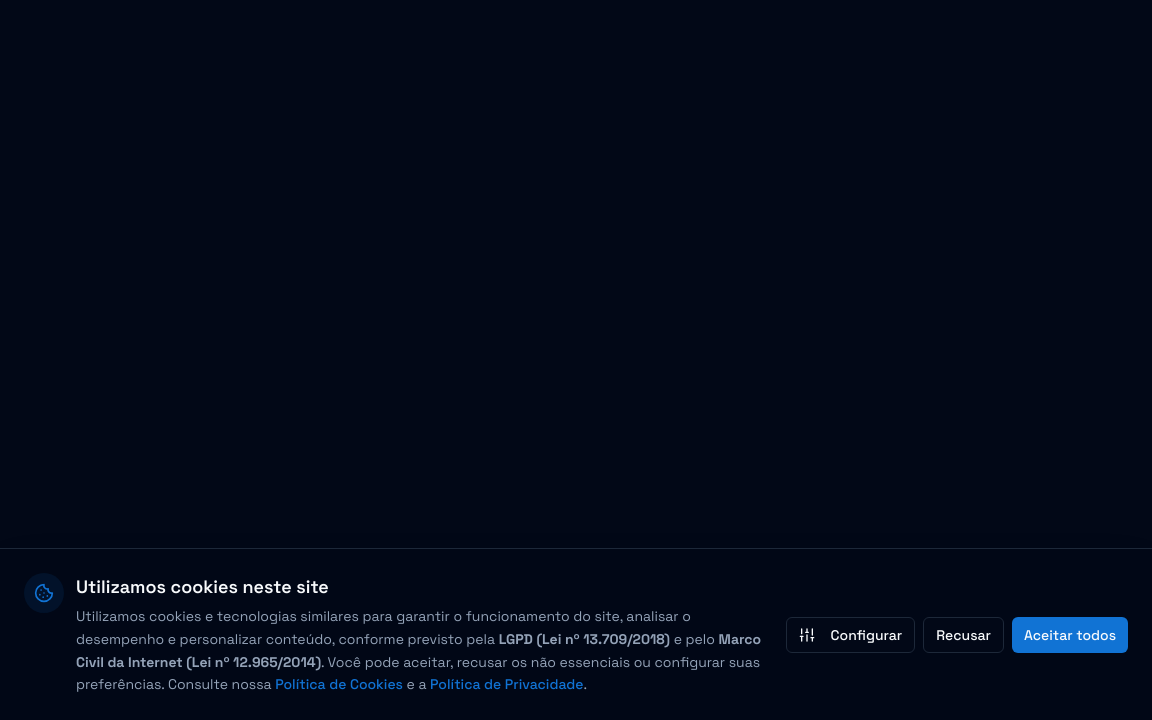
Test: CookieConsentBanner - keyboard accessibility › closes the modal when pressing Escape
Click the button "Configurar" at (850, 634), box [786,616,915,652]
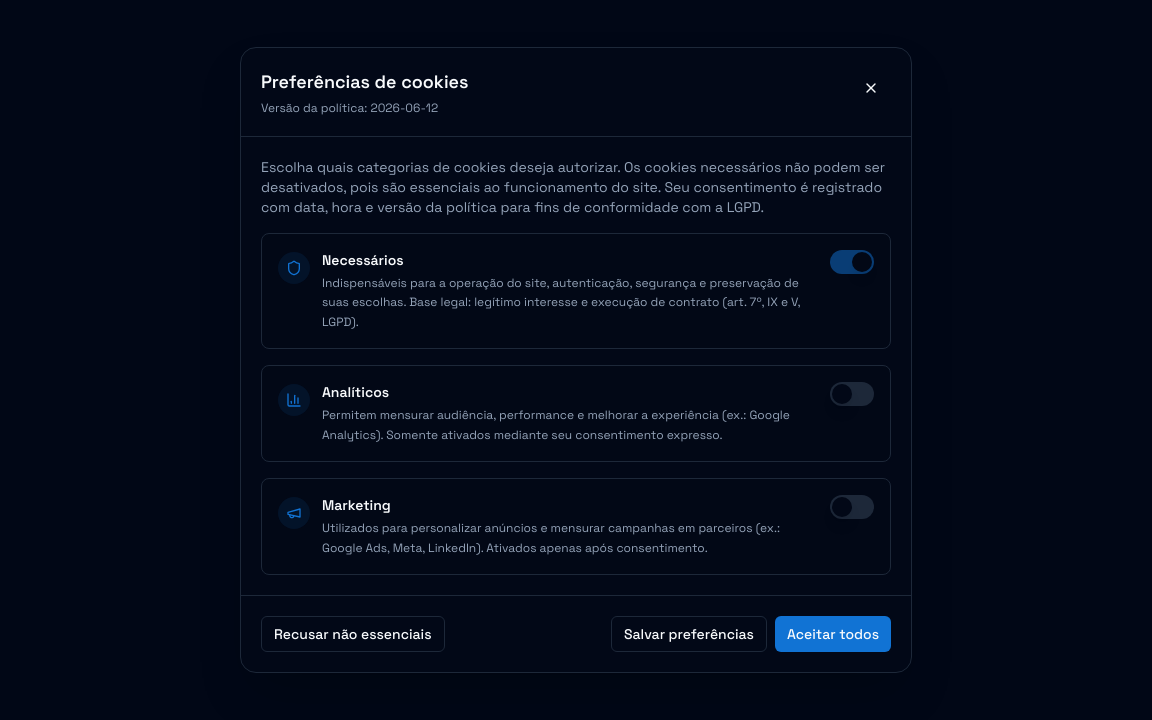
Result: the dialog with test id "cookie-preferences-modal" is shown
Press Escape
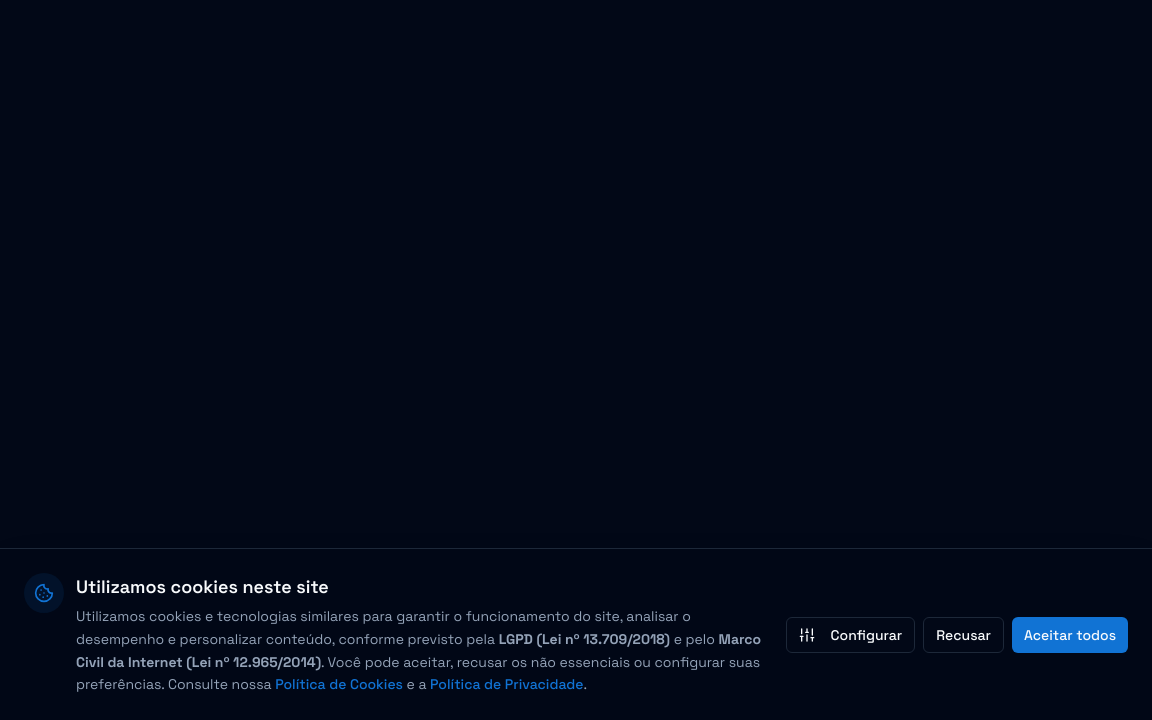
Result: the dialog with test id "cookie-preferences-modal" is gone
